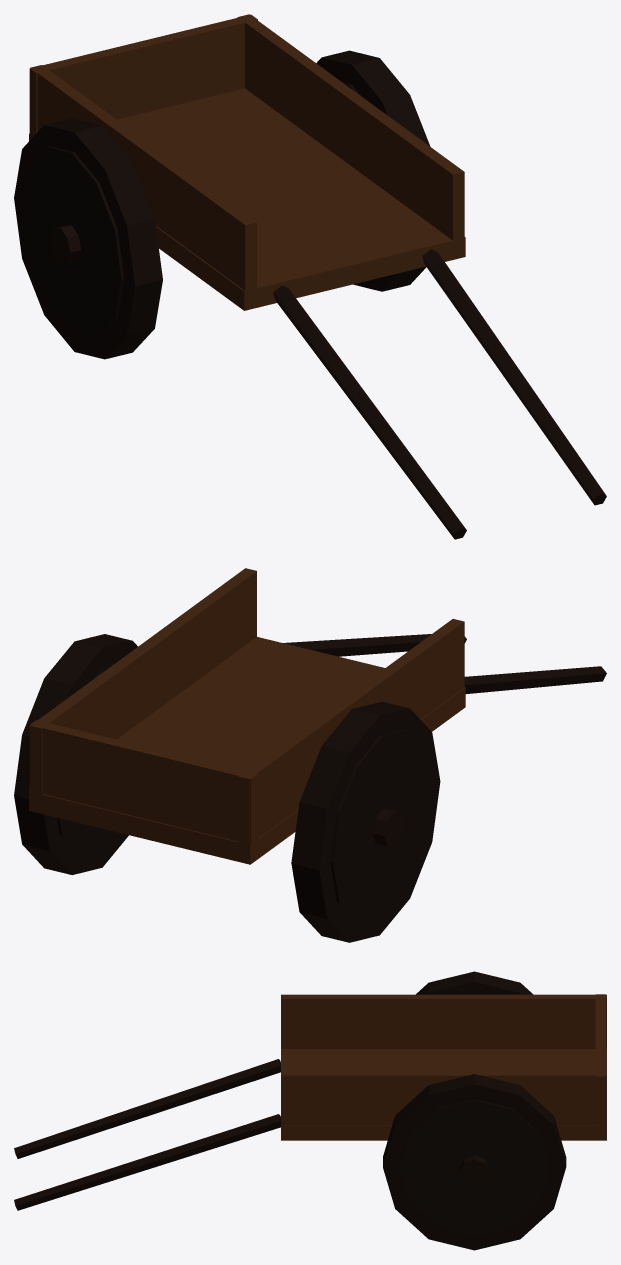
Rendered from handcart.fbx.
3 renders of one model, top to bottom at view 1: azimuth 30°, elevation 25°; view 2: azimuth 150°, elevation 25°; view 3: azimuth 270°, elevation 25°, orthographic. The views are drawn at different scales.
Parts seen in each view (by area): view 1: handcart; view 2: handcart; view 3: handcart.
Boxes of the visible parts, bbox=[...] form: handcart: bbox=[14, 14, 606, 539]; handcart: bbox=[14, 568, 606, 942]; handcart: bbox=[14, 971, 606, 1250].
Size of the model in its own units: 1.43 by 0.9 by 2.91.
